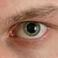eye: (25, 22, 42, 37)
